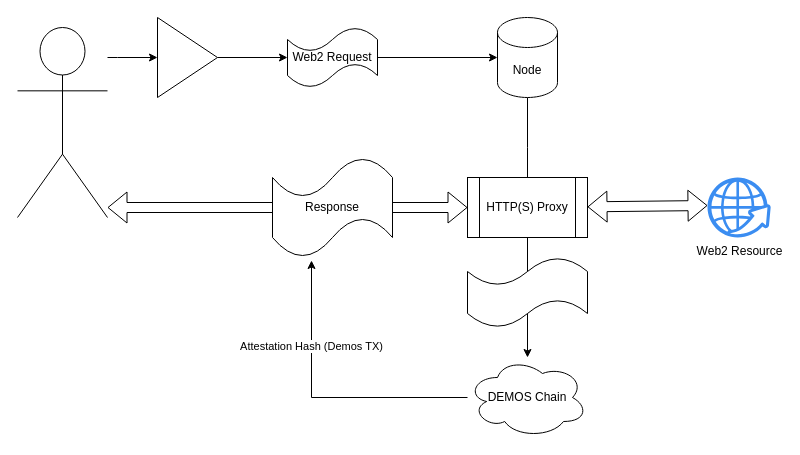
This 800x455 diagram has some shape labels left out. Here are the shapes that lost their labels. From the top down, the centre of each, then its label:
At (187,57): "SDK".
At (62,122): "User".
At (527,292): "Proxy Attestation".
